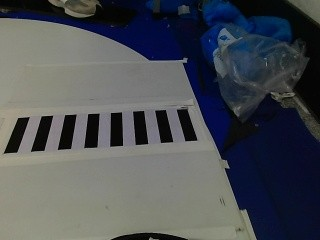crosswalk: (0, 104, 192, 154)
